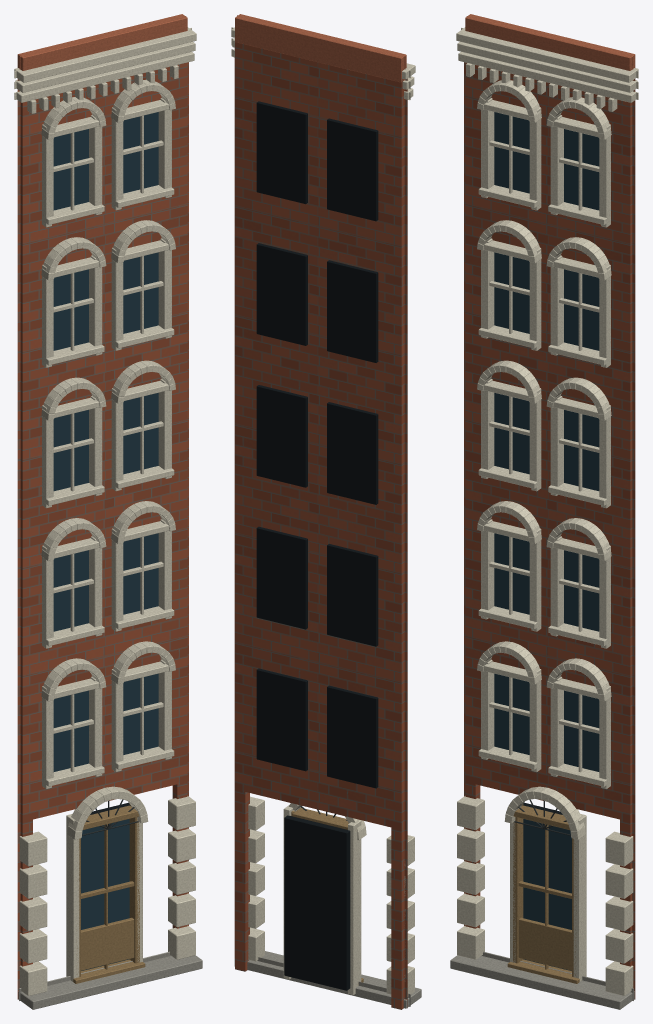
File: OFFC2_lod1.glb
3 renders of one model, left to right at view 1: azimuth 30°, elevation 25°; view 2: azimuth 150°, elevation 25°; view 3: azimuth 330°, elevation 25°, orthographic.
Visible parts, largest first — view 1: OFFC2_FRONT_LOD1; view 2: OFFC2_FRONT_LOD1; view 3: OFFC2_FRONT_LOD1.
Part boxes in pixels (left/top/right/bottom): OFFC2_FRONT_LOD1: left=14, top=14, right=202, bottom=1009; OFFC2_FRONT_LOD1: left=231, top=14, right=421, bottom=1009; OFFC2_FRONT_LOD1: left=450, top=14, right=638, bottom=1009.
Bounding box in the file's own units: 3.44 × 17.45 × 0.68.
9 materials, 7 textured.
